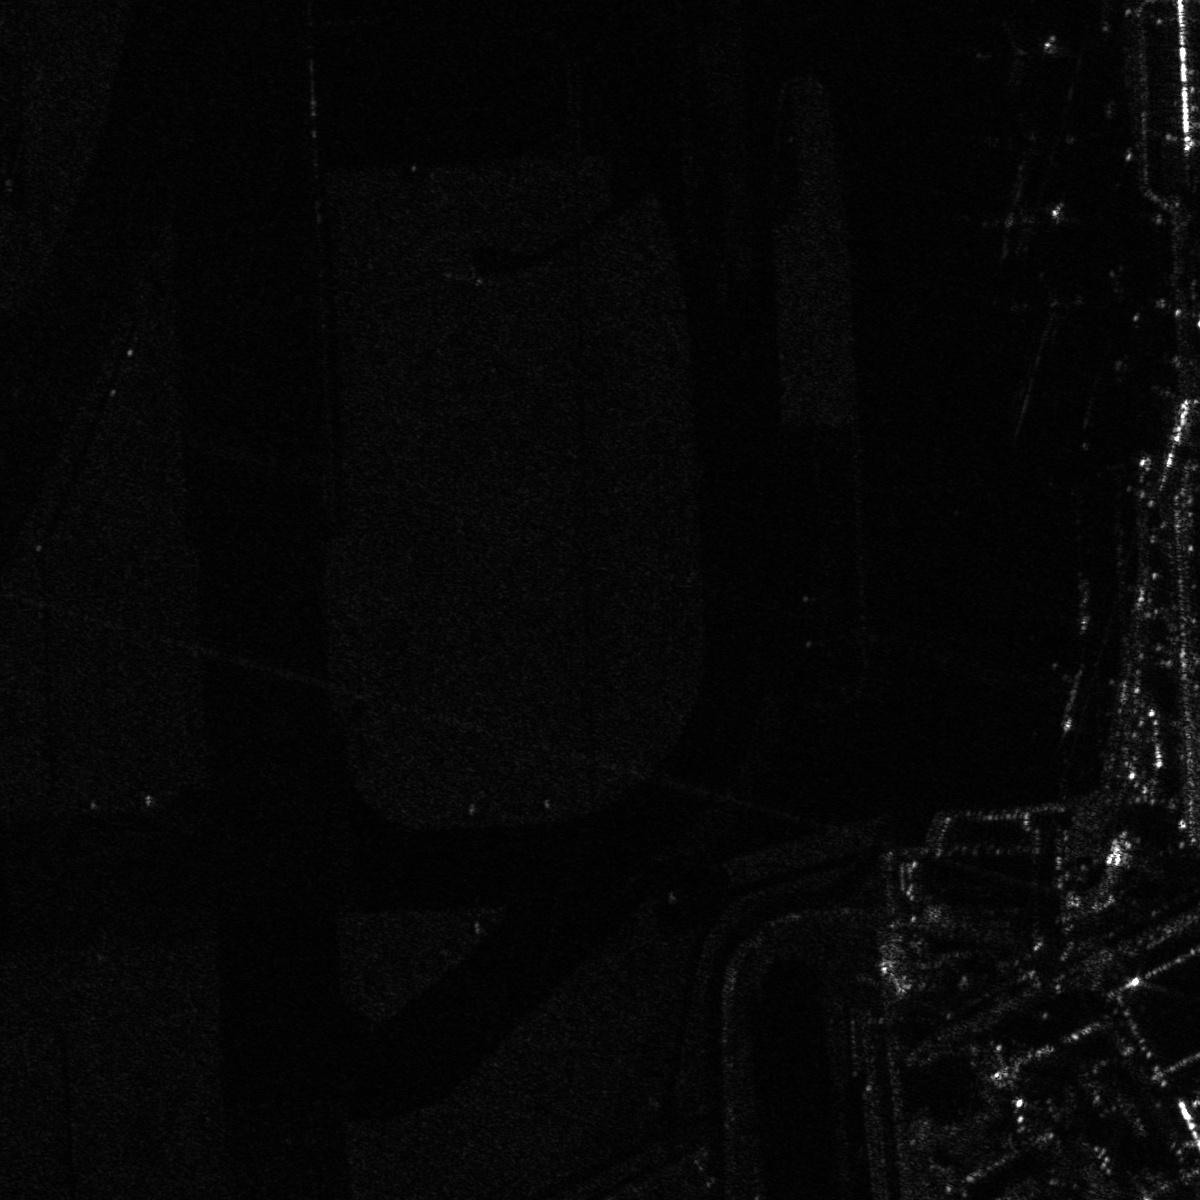A220: (965, 168, 1075, 262), (965, 21, 1064, 86)
ARJ21: (1013, 269, 1090, 343)
